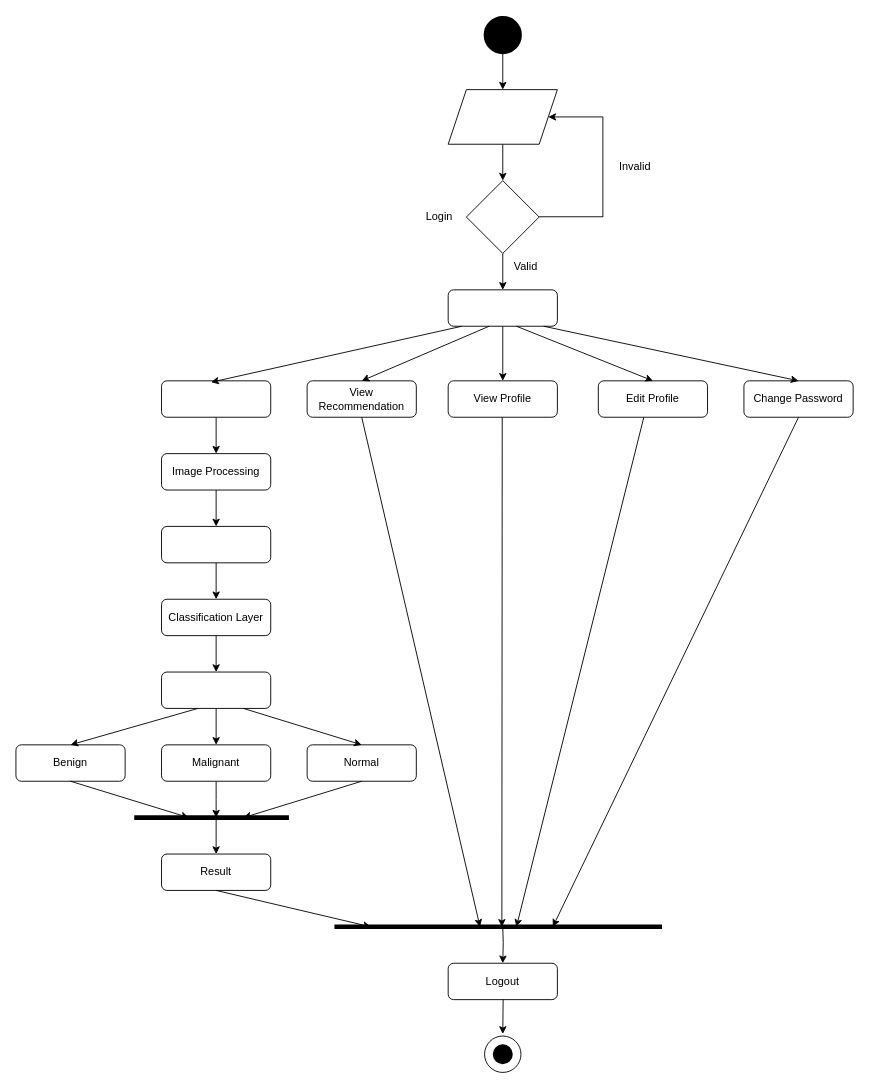
Some shapes in this 869 by 1088 pixel diagram are drawn without their labels. Here are the shapes that lost their labels. From the top down, the box of each, then its label:
(447, 89, 557, 144): Input Username And Password
(447, 289, 557, 326): Home Page
(161, 380, 271, 417): Upload Image
(161, 526, 271, 563): CNN Feature Extraction
(161, 671, 271, 708): Display Diagnosis
